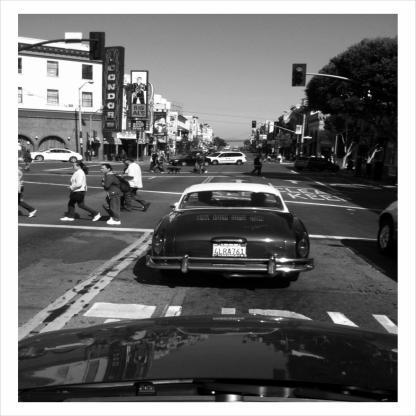car: (156, 163, 319, 287)
